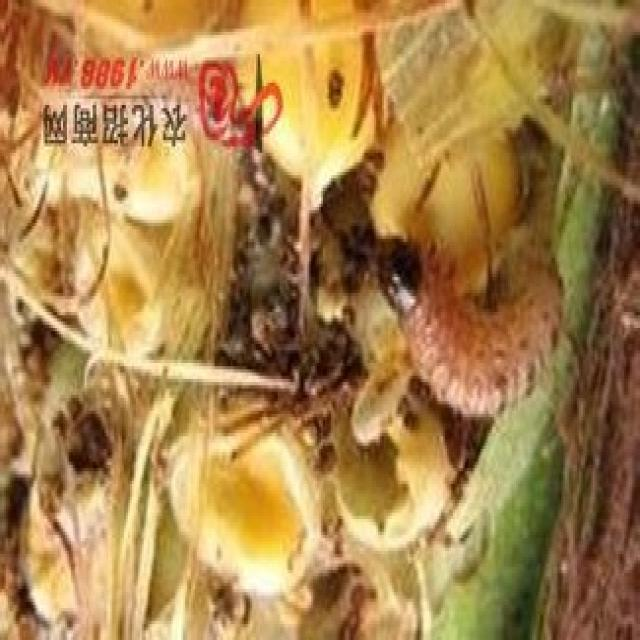peach borer: (385, 234, 570, 418)
